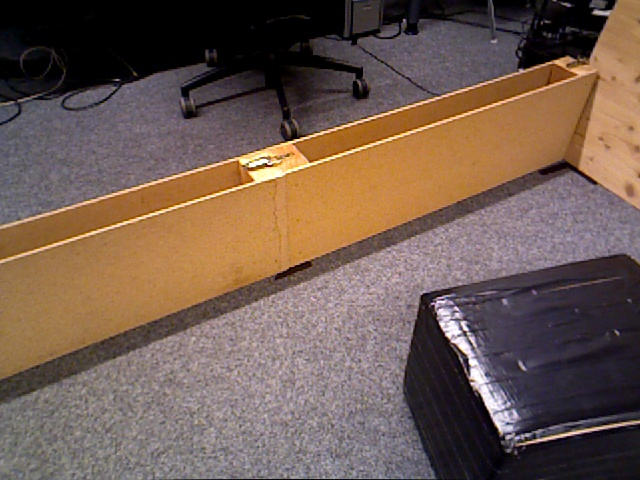push: (402, 255, 640, 474)
